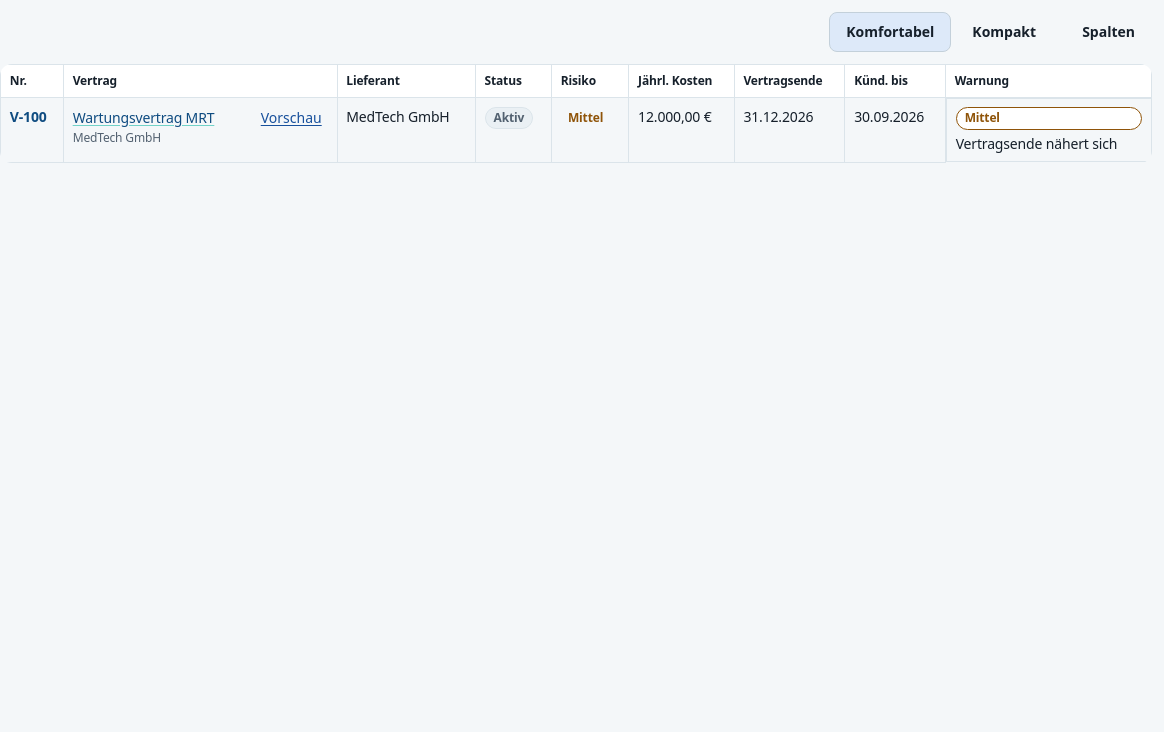
Test case: Vertragsliste – Arbeitsansicht › öffnet eine Schnellansicht ohne die Liste zu verlassen
This screenshot has width=1164, height=732.
Step 1. Click the button with aria-label "Wartungsvertrag MRT in Schnellansicht öffnen" → [291, 117], box [255,106,328,129]
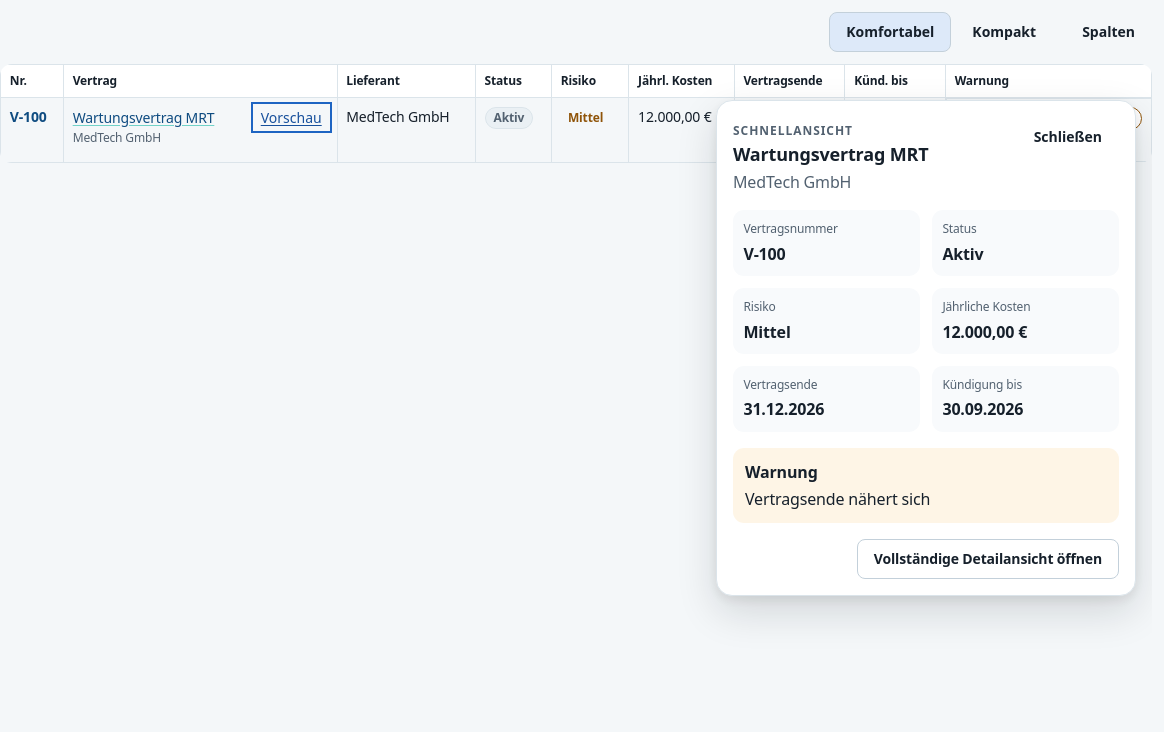
Now the element named "Vertrag Schnellansicht" is shown, box [716,100,1136,596]
